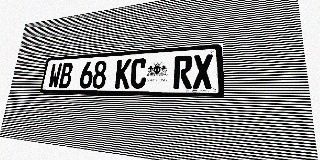6: (79, 61, 95, 88)
8: (91, 60, 108, 89)
B: (58, 62, 74, 88)
C: (130, 58, 147, 89)
K: (115, 59, 132, 89)
R: (173, 55, 192, 89)
W: (48, 63, 62, 88)
X: (193, 54, 213, 89)
